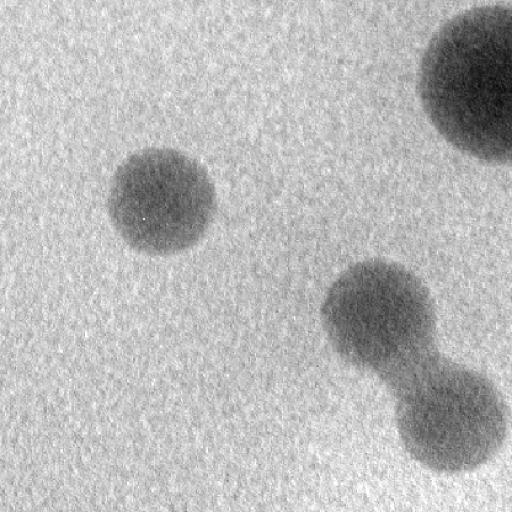Nanoparticles: (421, 5, 511, 159), (321, 259, 436, 371), (396, 362, 506, 472), (106, 146, 218, 254)
